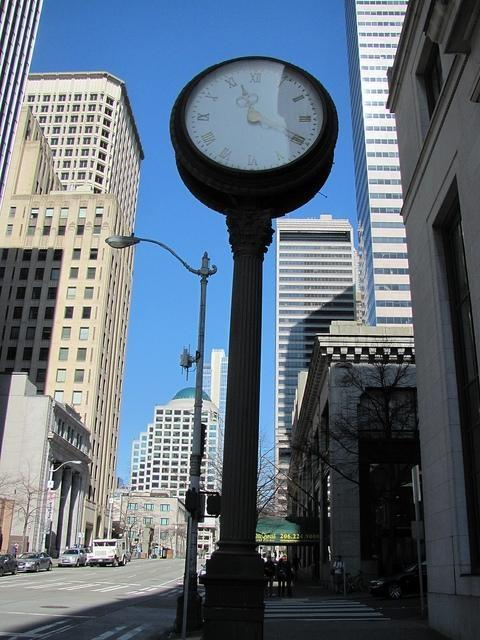car: (369, 553, 429, 600), (18, 552, 52, 574), (57, 548, 88, 566), (0, 554, 18, 576), (126, 550, 132, 562)
truck: (87, 540, 128, 566), (205, 552, 212, 560)
